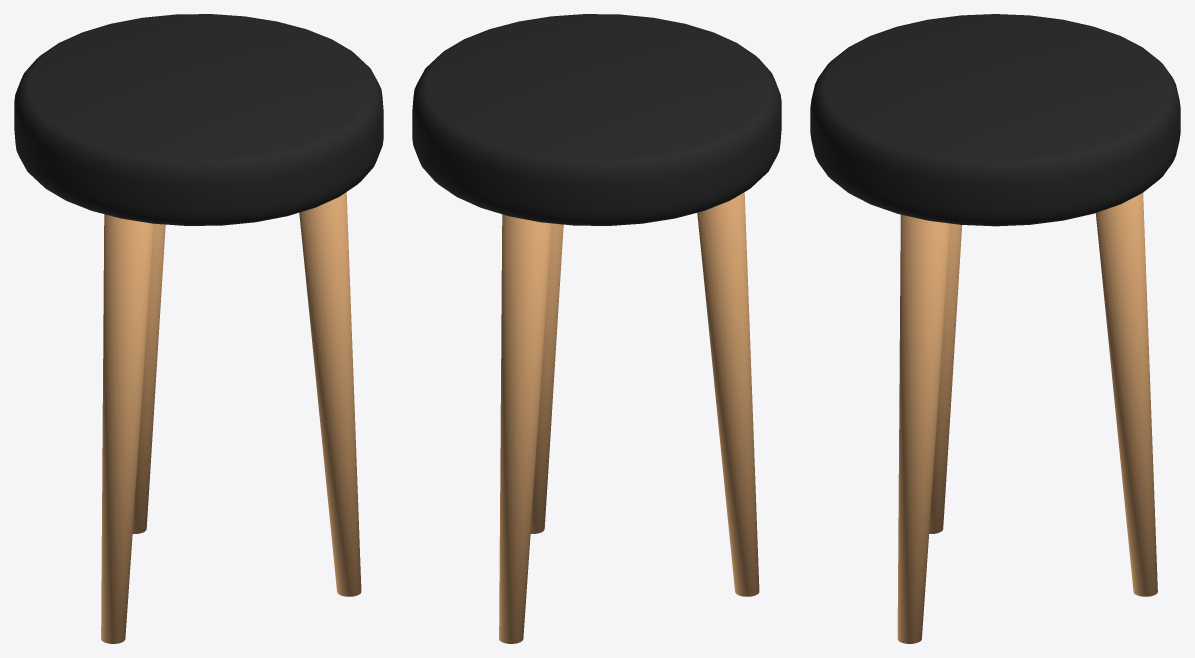
The picture shows the model from 3 angles, left to right: view 1: azimuth 30°, elevation 25°; view 2: azimuth 150°, elevation 25°; view 3: azimuth 270°, elevation 25°; orthographic projection.
Parts seen in each view (by area): view 1: Cylinder.001; view 2: Cylinder.001; view 3: Cylinder.001.
Part boxes in pixels (x1=…): Cylinder.001: x1=14, y1=14, x2=383, y2=643; Cylinder.001: x1=412, y1=14, x2=781, y2=643; Cylinder.001: x1=810, y1=14, x2=1180, y2=643.
Size of the model in its own units: 63.27 by 94.17 by 63.27.
